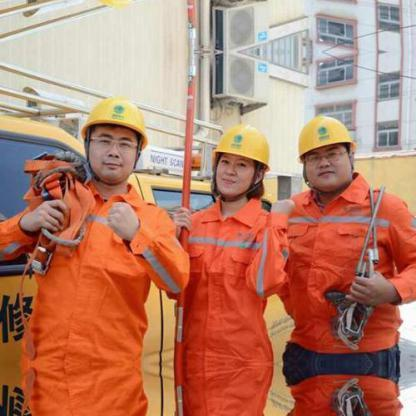Helmet: (76, 89, 155, 188), (289, 104, 364, 198), (205, 116, 277, 204)
